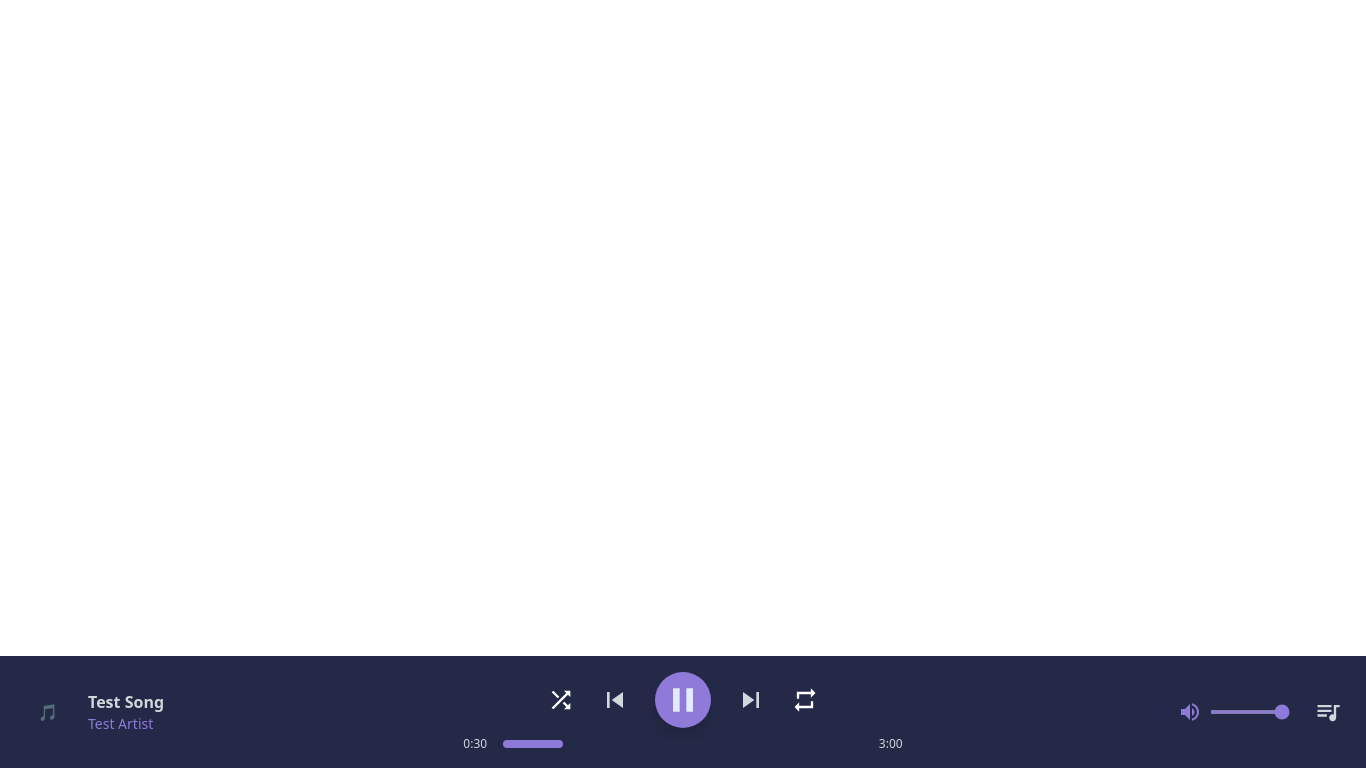
Test: Player › should go to next track on next click
Click the button titled "Next" at (751, 700), box [735, 684, 767, 716]
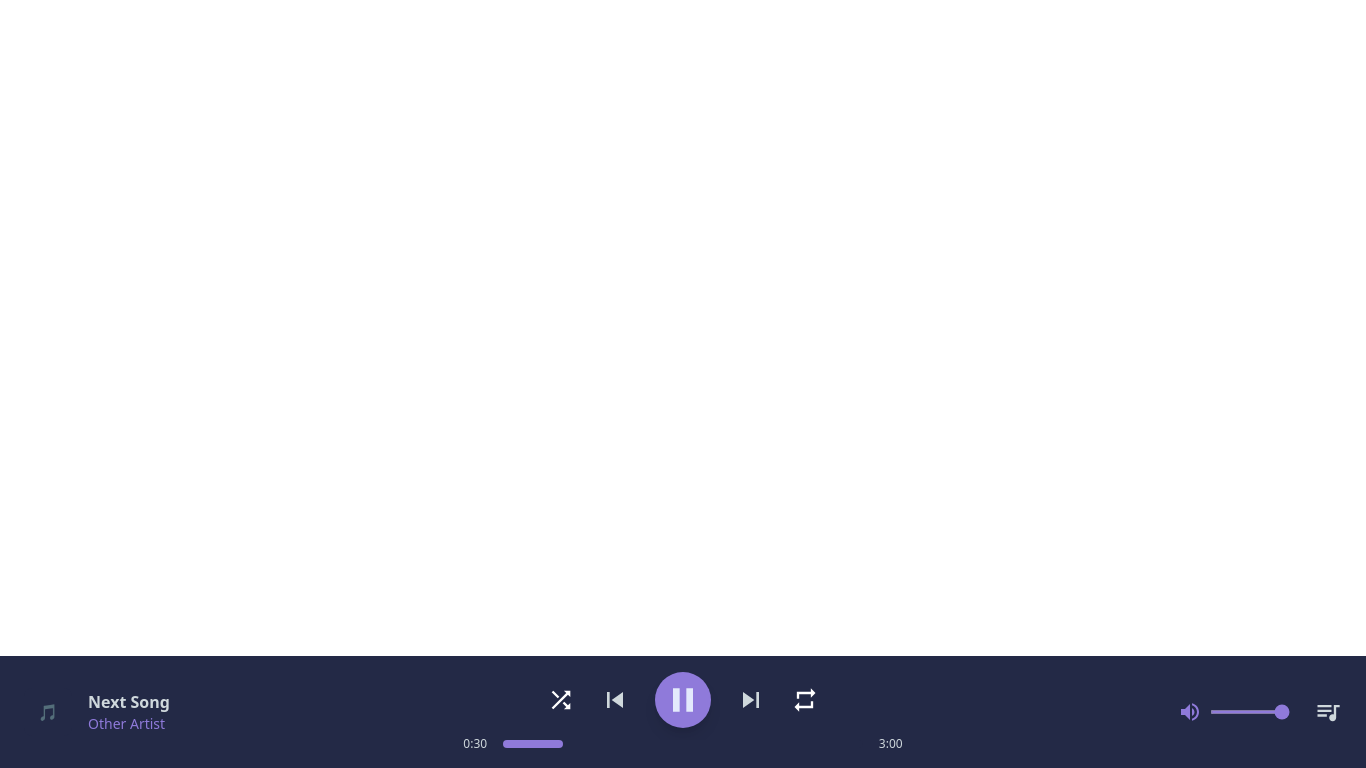
Expected: the text "Next Song" is shown, [88, 690, 170, 714]
